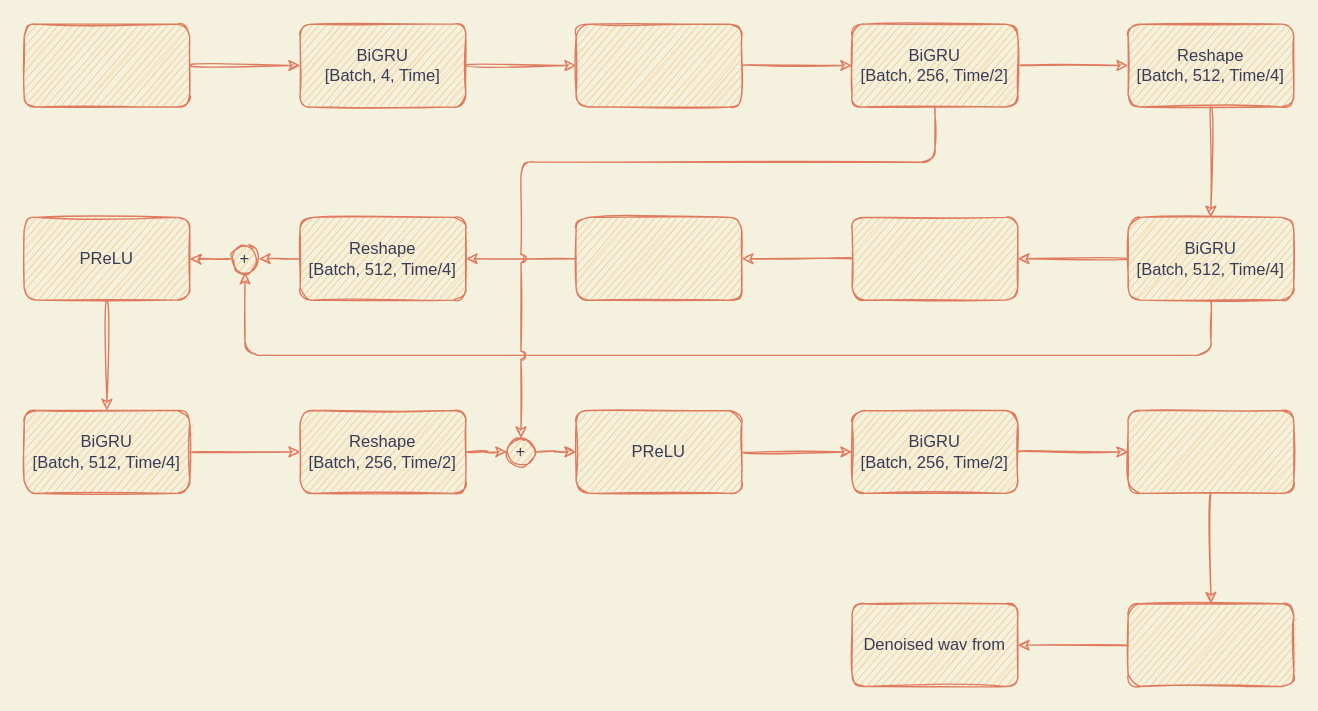
Some shapes in this 1318 by 711 pixel diagram are drawn without their labels. The shapes that lost their labels are listed below. From the top down, each one's box as (x1, y1, x2, y2) in pixels, then its label:
(23, 23, 190, 107): Wav form [Batch, 1, Time]
(575, 23, 742, 107): Reshape [Batch, 8, Time/2]
(575, 216, 742, 300): BiGRU [Batch, 1024, Time/8]
(851, 216, 1018, 300): Reshape [Batch, 1024, Time/8]
(1127, 409, 1294, 493): Reshape [Batch, 128, Time]
(1127, 602, 1294, 687): GRU [Batch, 1, Time]
